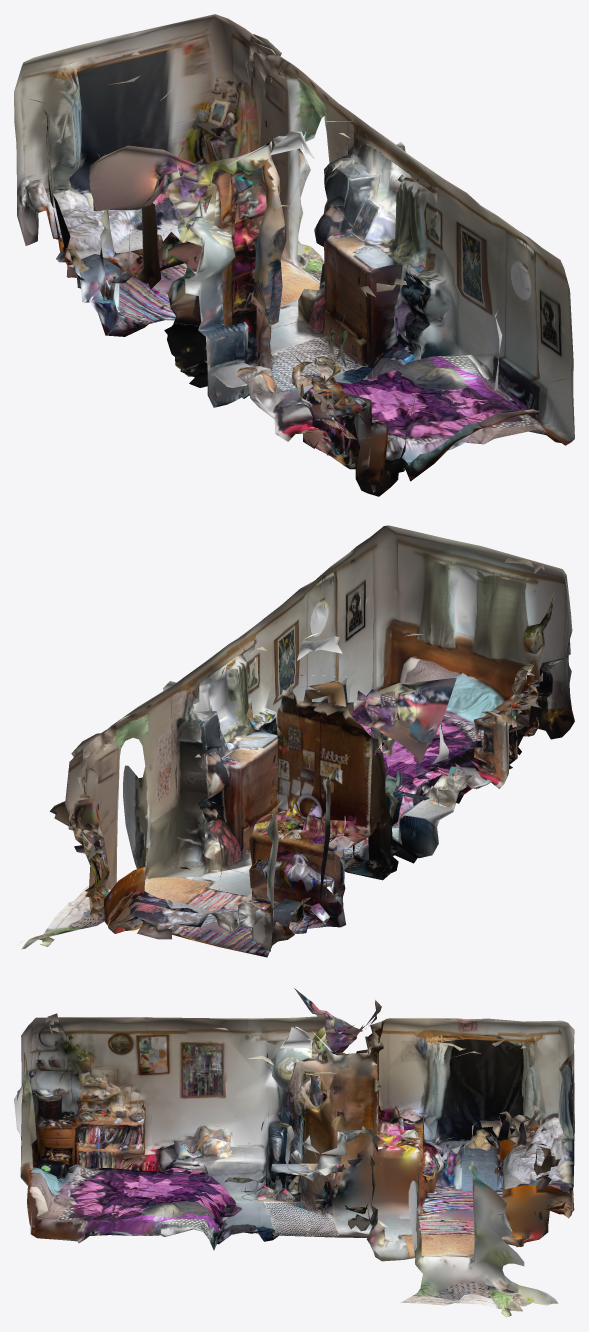
File: Bedroom.glb
3 views of the same model, one above another, from view 1: azimuth 30°, elevation 25°; view 2: azimuth 150°, elevation 25°; view 3: azimuth 270°, elevation 25° (orthographic). The views are drawn at different scales.
Visible parts, largest first — view 1: NewBedroom; view 2: NewBedroom; view 3: NewBedroom.
Boxes of the visible parts, box(x1,y1,x2,y2) form: NewBedroom: box(14, 14, 574, 496); NewBedroom: box(21, 525, 574, 957); NewBedroom: box(14, 988, 574, 1317).
Bounding box in the file's own units: 3.09 × 2.52 × 5.81.
1 material, 1 textured.
